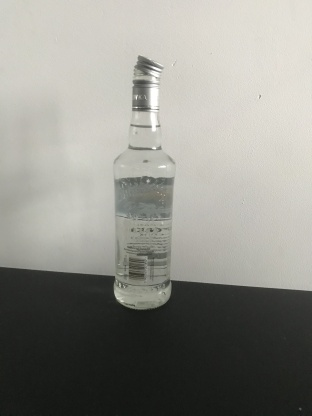nakretka: (129, 52, 165, 112)
